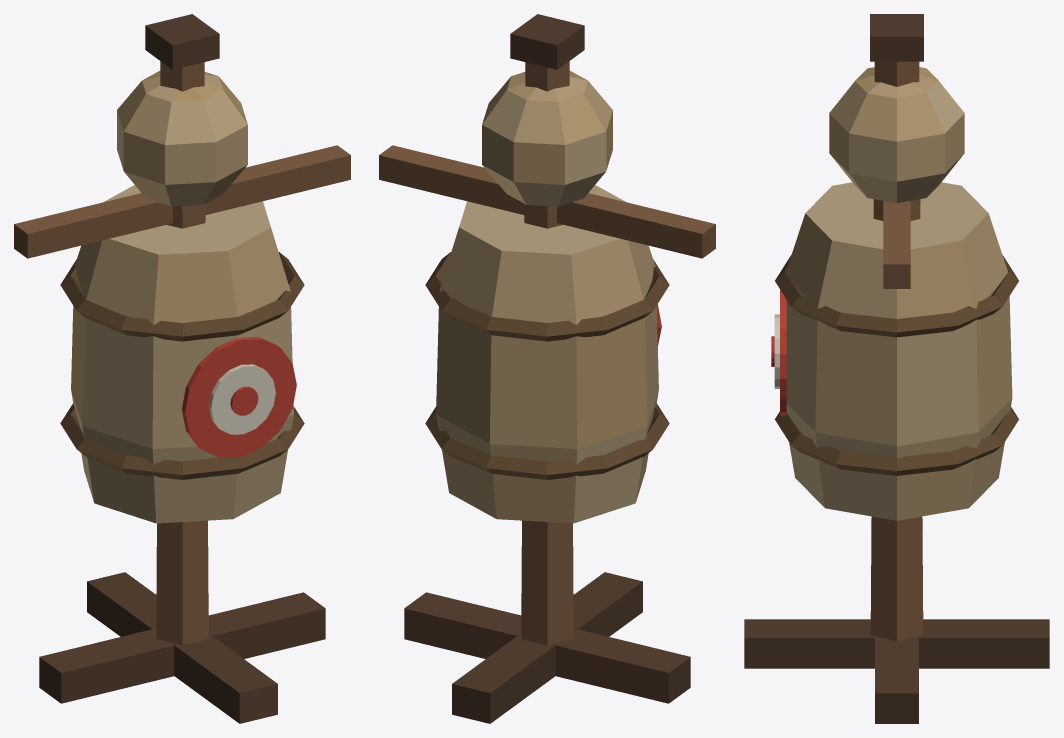
The model's file is TrainingDummy.fbx.
3 views of the same model, side by side, from view 1: azimuth 30°, elevation 25°; view 2: azimuth 150°, elevation 25°; view 3: azimuth 270°, elevation 25° (orthographic).
Visible parts, largest first — view 1: Swing, TrainingDummy; view 2: Swing, TrainingDummy; view 3: Swing, TrainingDummy.
Part boxes in pixels (bbox=[...]): Swing: bbox=[14, 71, 350, 523]; TrainingDummy: bbox=[39, 14, 325, 723]; Swing: bbox=[379, 71, 715, 523]; TrainingDummy: bbox=[404, 14, 690, 723]; Swing: bbox=[771, 67, 1018, 520]; TrainingDummy: bbox=[744, 14, 1049, 723].
Size of the model in its own units: 1.1 by 2.06 by 0.9.
